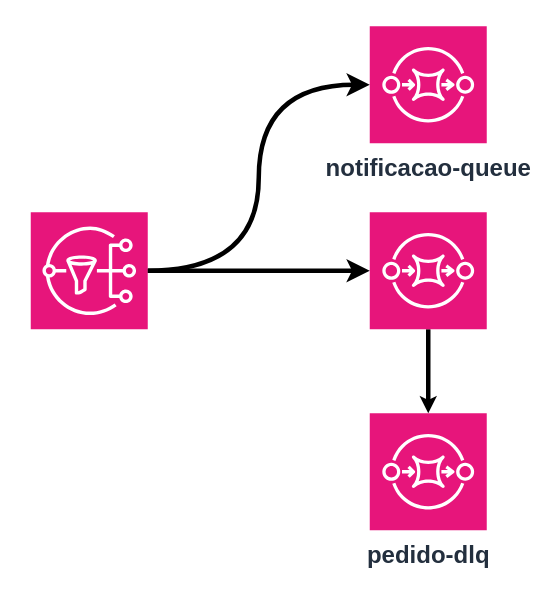
Image size: 557x596. Some labels were removed from this diagram. The shapes that lost their labels are listed below. From the top down, each one's centre as x and y in pixels, then its label:
pixel 88 270: sns-pedido
pixel 427 270: pedido-queue
